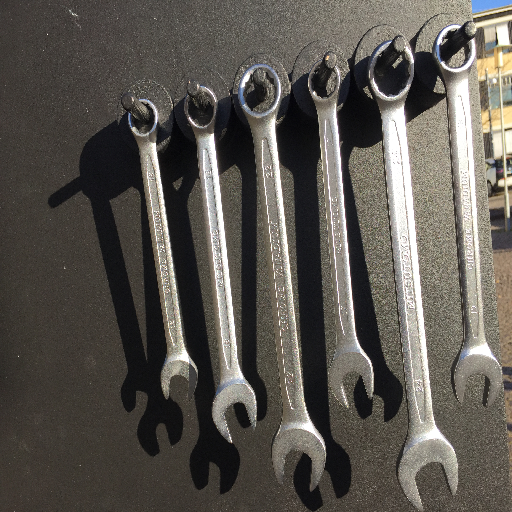bottom: (396, 435, 462, 510), (268, 421, 330, 497), (449, 345, 504, 410), (210, 380, 262, 444), (327, 347, 378, 411), (158, 356, 201, 403)
top: (366, 37, 417, 109), (237, 62, 285, 124), (429, 23, 479, 79), (180, 83, 221, 136), (303, 58, 345, 107), (123, 99, 164, 142)
